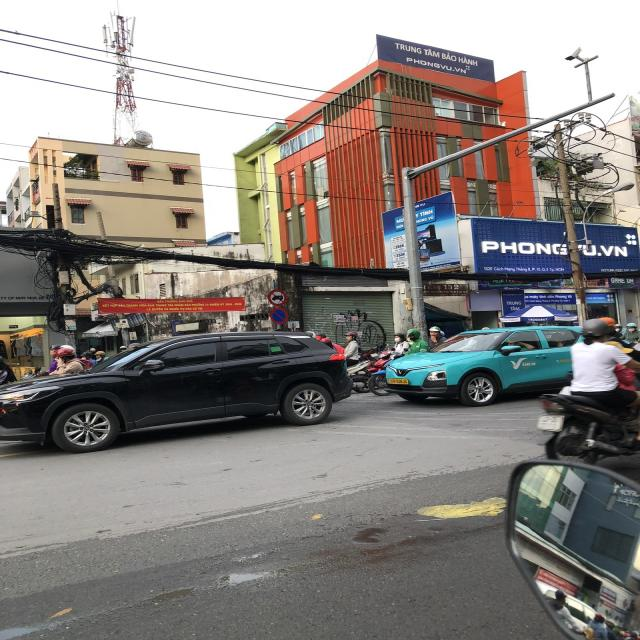Bien bao cam do xe: (269, 307, 289, 324)
Bien bao cam xe oto tai: (266, 288, 289, 306)
